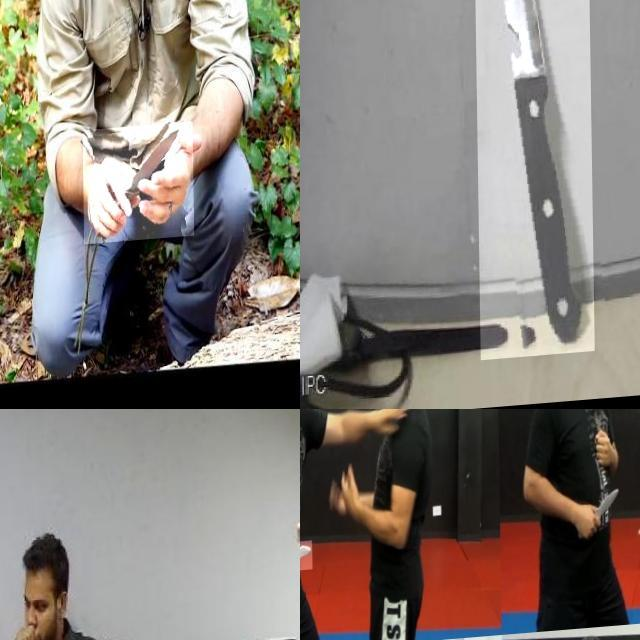-: (472, 0, 593, 363), (81, 128, 192, 250), (575, 492, 619, 548), (300, 542, 326, 574)
